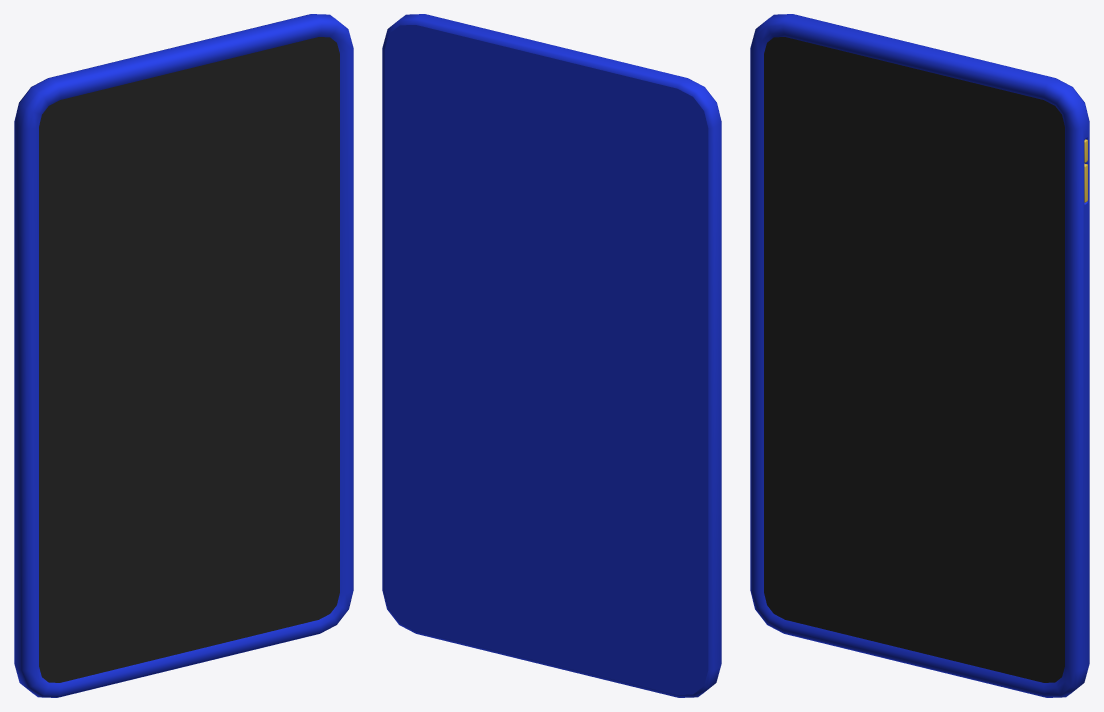
The model's file is Phone-1.fbx.
3 renders of one model, left to right at view 1: azimuth 30°, elevation 25°; view 2: azimuth 150°, elevation 25°; view 3: azimuth 330°, elevation 25°, orthographic.
Visible parts, largest first — view 1: Phone-1; view 2: Phone-1; view 3: Phone-1.
Part boxes in pixels (x1,y1,x2,y2): Phone-1: [14, 14, 353, 697]; Phone-1: [382, 14, 721, 697]; Phone-1: [750, 14, 1089, 697].
Size of the model in its own units: 0.9471 by 1.67 by 0.0591.
